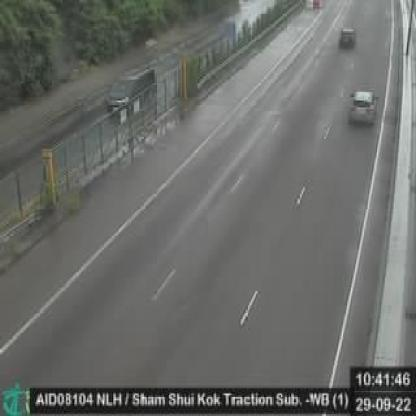Car: (108, 61, 158, 118), (343, 83, 381, 127), (333, 23, 356, 50)
